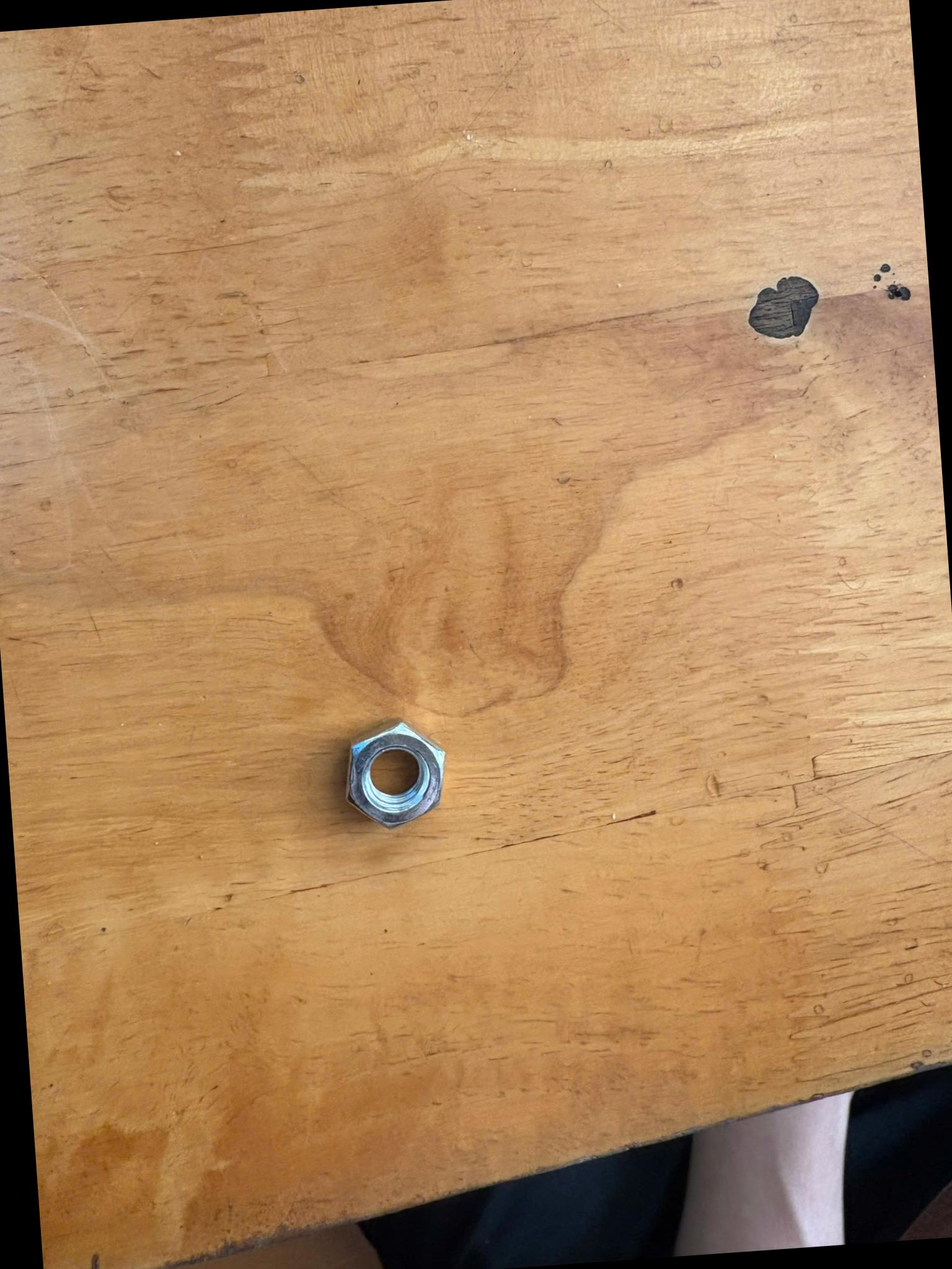nut: (331, 716, 466, 843)
